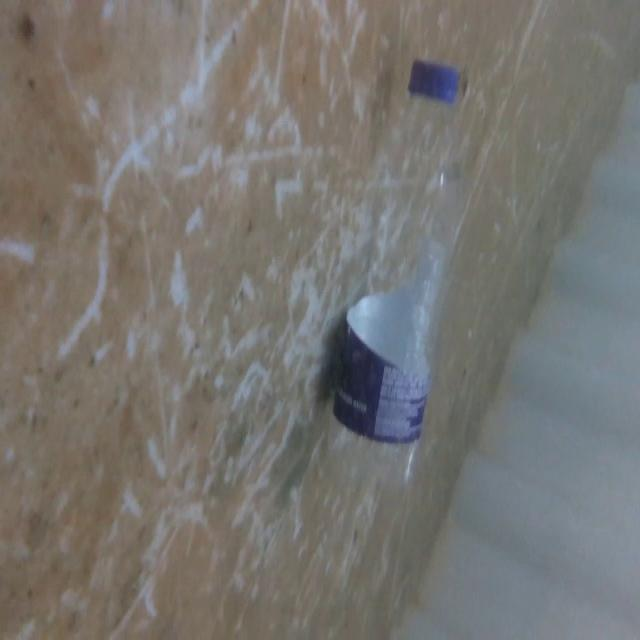plastic bottle: (317, 49, 471, 515)
